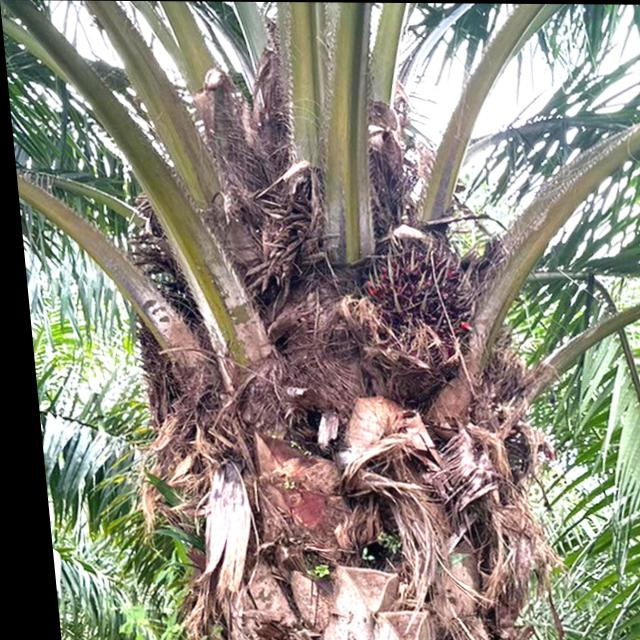ripe: (338, 230, 488, 344)
